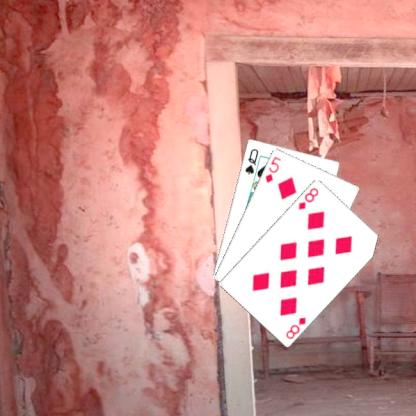5D: (262, 154, 282, 184)
8D: (295, 184, 320, 212), (283, 314, 307, 340)
QS: (242, 145, 260, 176)
